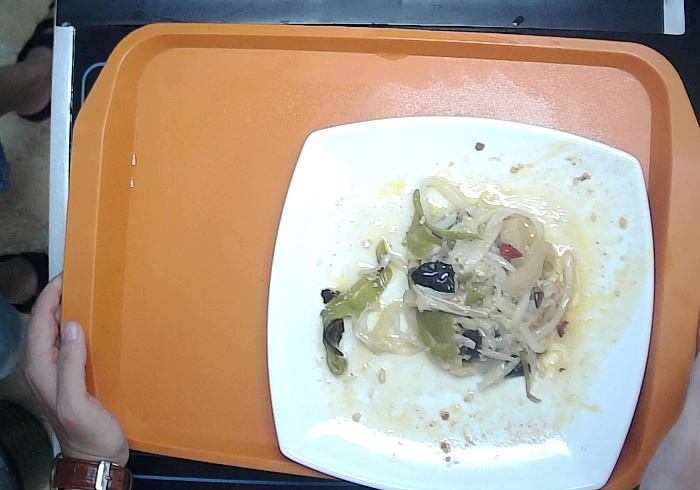ZNLD-Bai_Fang_Pan: (261, 109, 657, 490)
